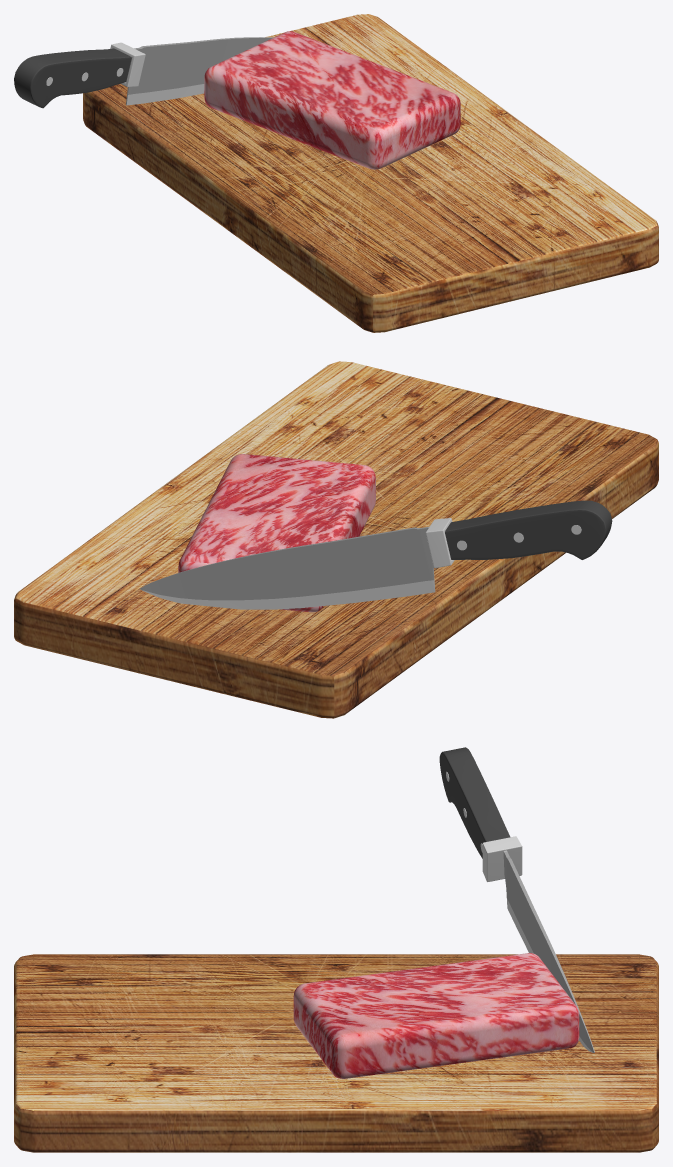
Rendered from wood_cutting_board_with_knife_and_red_meat.glb.
3 views of the same model, one above another, from view 1: azimuth 30°, elevation 25°; view 2: azimuth 150°, elevation 25°; view 3: azimuth 270°, elevation 25° (orthographic). The views are drawn at different scales.
Visible parts, largest first — view 1: pCube4, pCube5, pCylinder7; view 2: pCube4, pCylinder7, pCube5; view 3: pCube4, pCube5, pCylinder7.
Part boxes in pixels (left/top/right/bottom): pCube4: left=83, top=14, right=658, bottom=332; pCube5: left=204, top=31, right=460, bottom=169; pCylinder7: left=14, top=37, right=273, bottom=108; pCube4: left=14, top=361, right=658, bottom=718; pCylinder7: left=140, top=500, right=612, bottom=609; pCube5: left=178, top=454, right=375, bottom=612; pCube4: left=14, top=954, right=658, bottom=1152; pCube5: left=293, top=953, right=579, bottom=1078; pCylinder7: left=439, top=747, right=594, bottom=1052.
Size of the model in its own units: 13.67 by 4.69 by 15.62.
6 materials, 2 textured.
